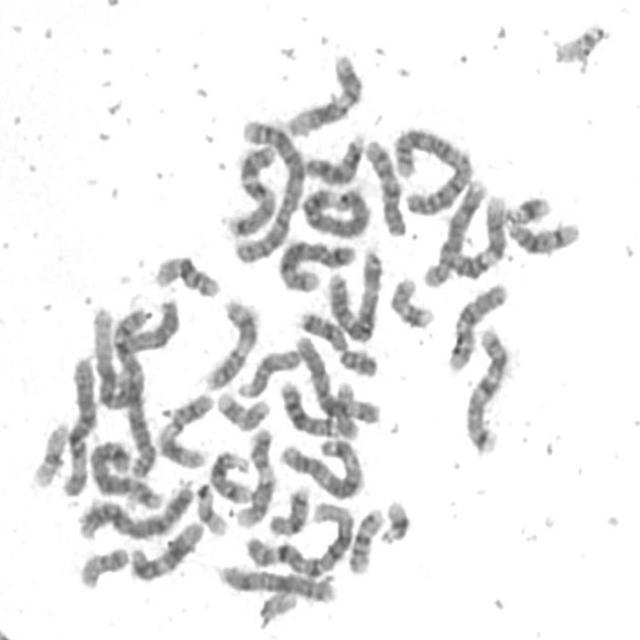A1: (242, 497, 358, 577), (88, 299, 150, 411)
A2: (227, 113, 309, 266), (388, 119, 476, 218)
A3: (276, 431, 368, 502), (323, 242, 385, 346)
B4: (74, 478, 198, 542), (292, 185, 378, 242)
B5: (84, 434, 166, 512), (274, 236, 360, 294)
C10: (444, 276, 512, 375), (360, 132, 411, 238)
C11: (201, 293, 262, 392), (152, 386, 217, 471)
C12: (282, 47, 368, 138), (126, 514, 207, 584)
C6: (291, 327, 384, 426), (57, 351, 100, 497)
C7: (461, 320, 515, 456), (223, 137, 281, 240)
C8: (420, 173, 491, 291), (215, 558, 339, 606)
C9: (445, 188, 511, 280), (232, 421, 279, 531)
D13: (276, 373, 358, 439), (301, 128, 368, 186)
D14: (500, 212, 586, 256), (206, 444, 256, 505)
D15: (120, 290, 186, 356), (233, 342, 305, 400)
E16: (151, 248, 224, 300), (345, 502, 388, 575)
E17: (387, 272, 439, 330), (213, 386, 274, 432)
E18: (265, 481, 314, 538), (294, 310, 351, 358)
F19: (28, 416, 73, 490), (192, 478, 231, 537)
F20: (76, 539, 133, 591), (334, 344, 381, 383)
G21: (376, 493, 415, 546), (502, 188, 556, 226)
G22: (550, 16, 611, 66), (254, 585, 300, 629)
